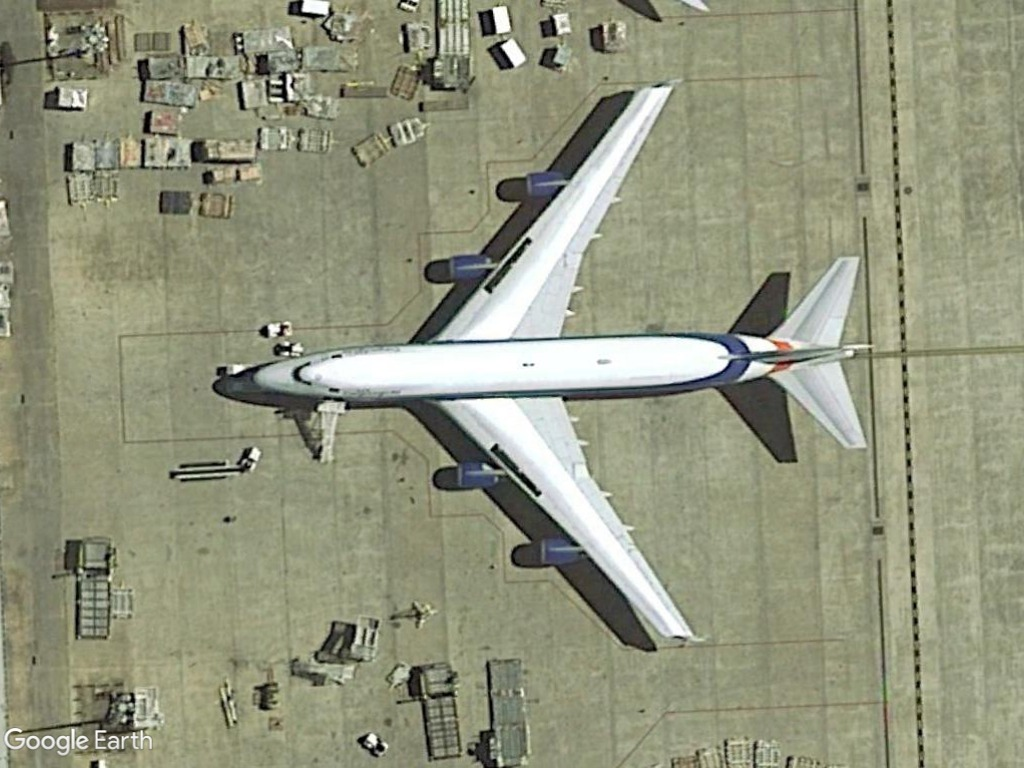airliner: (253, 86, 874, 655)
